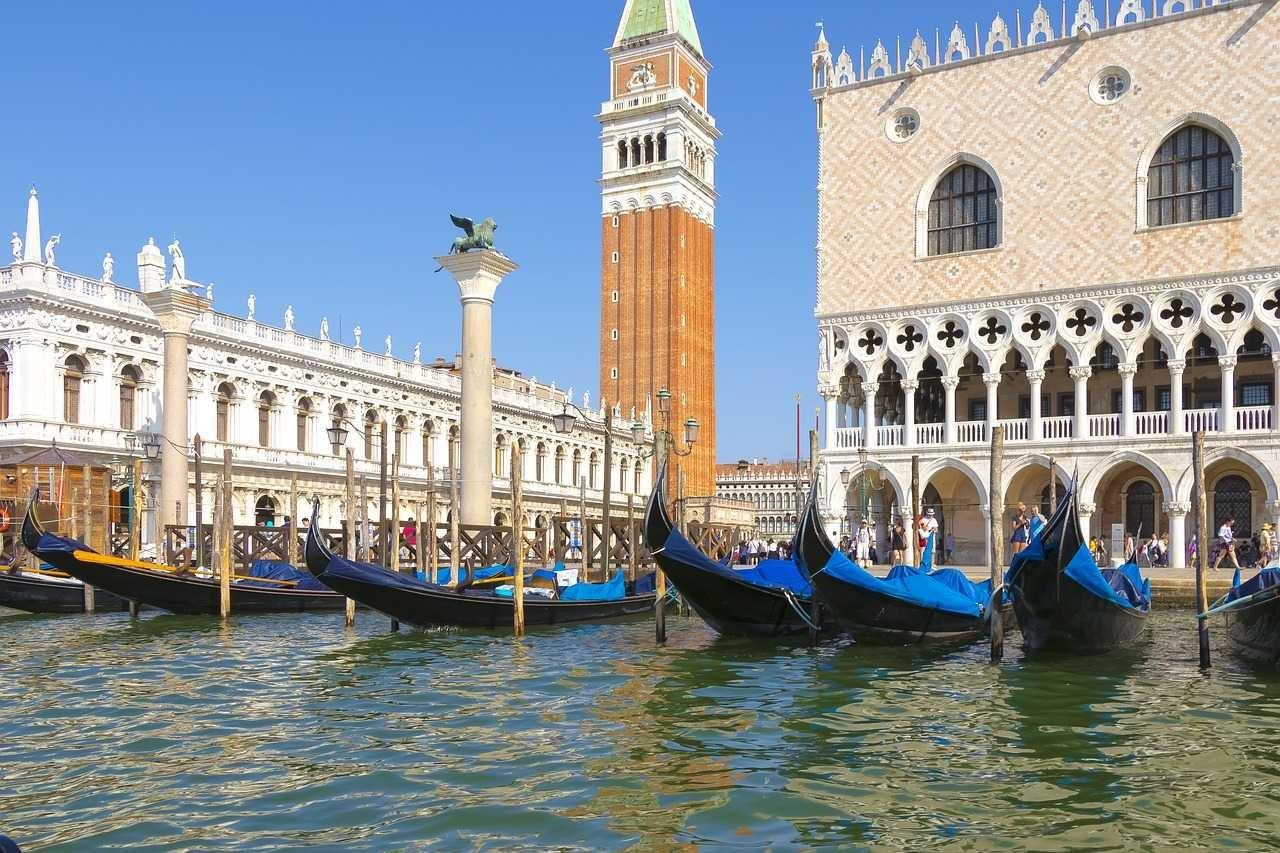kayak: (303, 509, 668, 636), (20, 505, 345, 619), (1000, 460, 1152, 658), (645, 502, 833, 643), (810, 533, 997, 647), (1195, 563, 1280, 664), (0, 563, 92, 613)
